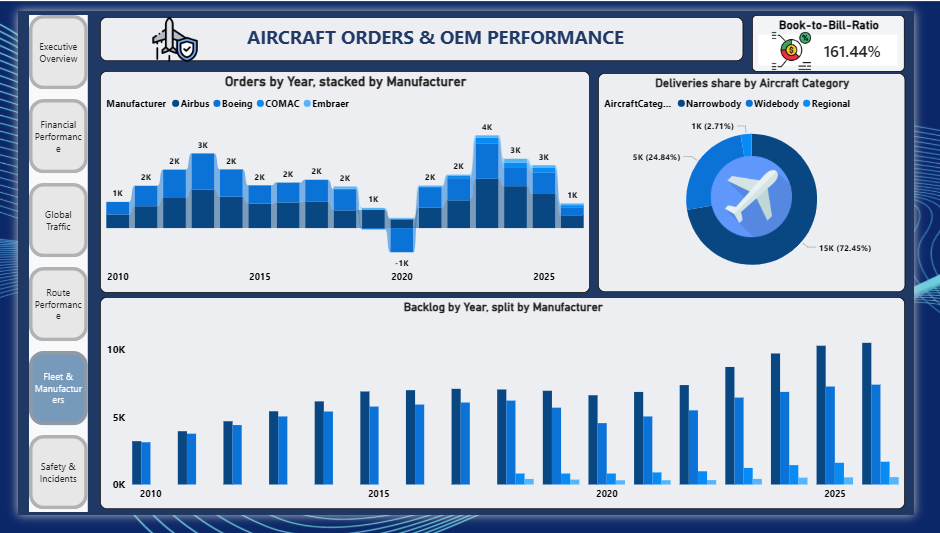

Layout of this report page (visuals, bound fields, positions):
{"tool":"powerbi","page":{"name":"Fleet & Manufacturers","canvas":[1280,720],"ordinal":4},"visuals":[{"type":"columnChart","title":"Orders by Year, stacked by Manufacturer","fields":{"Category":["Fact_FleetOrders6.Year"],"Series":["Fact_FleetOrders6.Manufacturer"],"Y":["Sum(Fact_FleetOrders6.OrdersNet)"]},"box":[117.1,85.7,700,317.1],"z":0},{"type":"clusteredColumnChart","title":"Backlog by Year, split by Manufacturer","fields":{"Category":["Fact_FleetOrders6.Year"],"Series":["Fact_FleetOrders6.Manufacturer"],"Y":["Sum(Fact_FleetOrders6.BacklogEndOfYear)"]},"box":[117.1,408.6,1150,302.9],"z":1000},{"type":"donutChart","title":"Deliveries share by Aircraft Category","fields":{"Category":["Fact_FleetOrders6.AircraftCategory"],"Y":["Sum(Fact_FleetOrders6.Deliveries)"]},"box":[828.7,89.1,439,313.4],"z":2000},{"type":"textbox","box":[117.1,8.6,918.6,62.9],"z":3000},{"type":"group","id":"g1","title":"Group 1","box":[1047.9,5.4,217.9,81.1],"z":4000},{"type":"image","box":[172.9,8.6,102.9,64.3],"z":5000},{"type":"cardVisual","title":"Book-to-Bill-Ratio","fields":{"Data":["Fact_FleetOrders6.Book-to-Bill-Ratio"]},"box":[1047.9,5.4,217.9,81.1],"z":6000,"group":"g1"},{"type":"image","box":[1062.9,27.1,84.3,60],"z":6000},{"type":"image","box":[975.7,207.1,144.3,115.7],"z":7000},{"type":"pageNavigator","box":[15.7,5.7,84.3,710],"z":7001}]}

Visuals, with their boxes in screenshot pixels (x1, y1, x2, y2), scaled from the page's 1280x720 canvas onto the 940x533 screenshot:
"Orders by Year, stacked by Manufacturer" columnChart: [86,63,600,298]
"Backlog by Year, split by Manufacturer" clusteredColumnChart: [86,302,931,527]
"Deliveries share by Aircraft Category" donutChart: [609,66,931,298]
textbox: [86,6,761,53]
"Group 1" group: [770,4,930,64]
image: [127,6,203,54]
"Book-to-Bill-Ratio" cardVisual: [770,4,930,64]
image: [781,20,842,64]
image: [717,153,822,239]
pageNavigator: [12,4,73,530]
